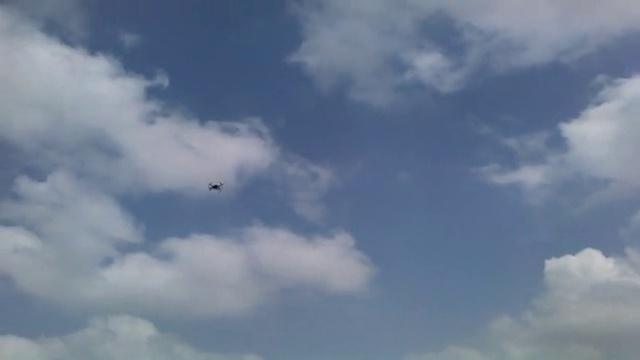drone: (205, 178, 225, 192)
